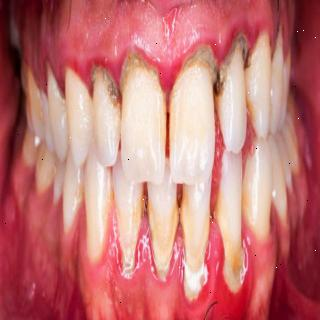Gum Swelling: (65, 197, 140, 310), (131, 216, 198, 311), (67, 45, 182, 97), (232, 234, 277, 314), (180, 17, 241, 66), (250, 16, 274, 45)
calculus: (147, 199, 177, 282), (177, 33, 219, 91), (120, 33, 158, 93), (114, 204, 140, 288), (87, 52, 121, 116), (224, 226, 249, 293), (183, 258, 209, 306), (225, 33, 250, 81), (42, 54, 64, 106)
maligned: (245, 133, 279, 239), (249, 20, 273, 142)
